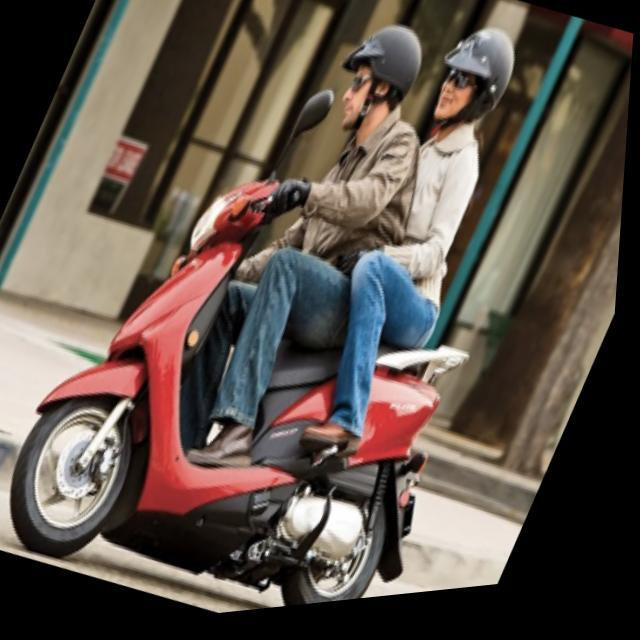Helmet: (340, 21, 427, 138), (432, 26, 524, 131)
